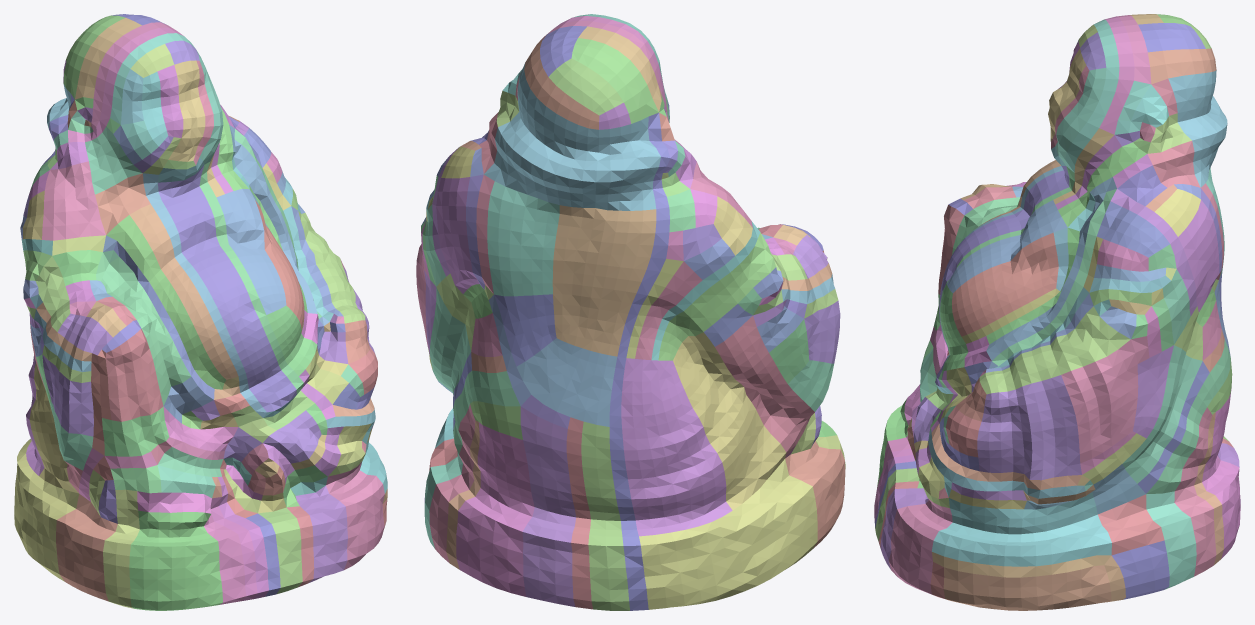
File: buddha_patch_color.obj
3 views of the same model, side by side, from view 1: azimuth 30°, elevation 25°; view 2: azimuth 150°, elevation 25°; view 3: azimuth 270°, elevation 25° (orthographic). The views are drawn at different scales.
Size of the model in its own units: 0.6998 by 0.9988 by 0.655.
